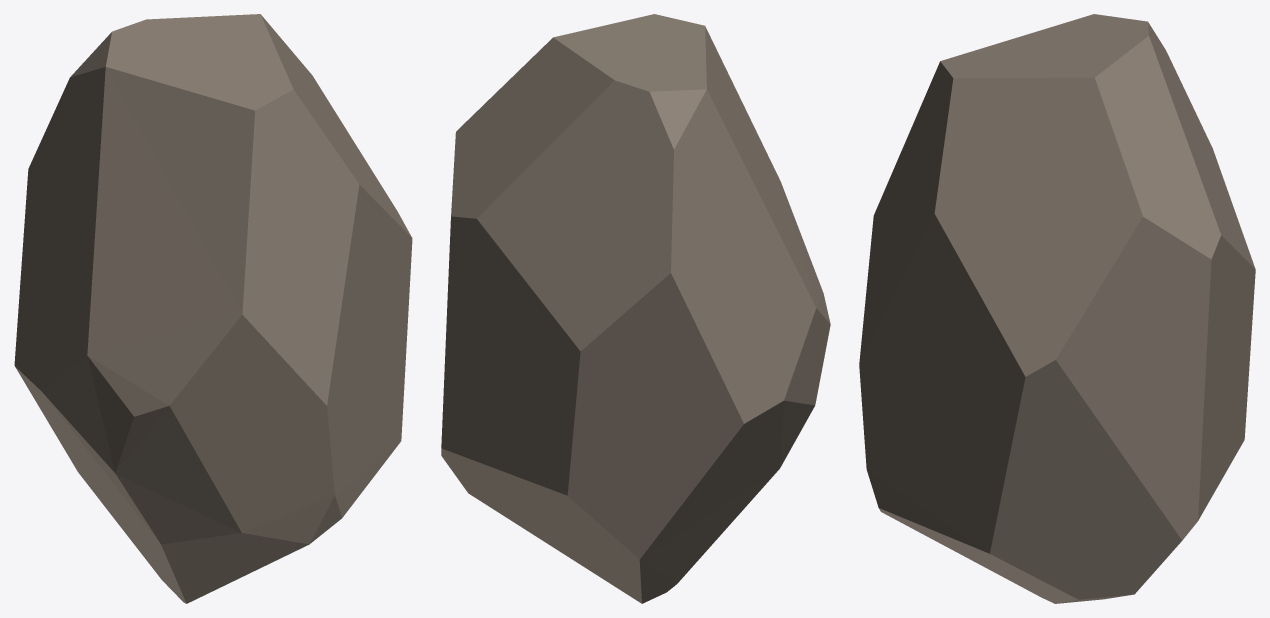
Rendered from stone11.dae.
The picture shows the model from 3 angles, left to right: view 1: azimuth 30°, elevation 25°; view 2: azimuth 150°, elevation 25°; view 3: azimuth 270°, elevation 25°; orthographic projection. The views are drawn at different scales.
Visible parts, largest first — view 1: Stone1.1; view 2: Stone1.1; view 3: Stone1.1.
Boxes of the visible parts, x1,y1,x2,y2 form: Stone1.1: (14, 14, 412, 603); Stone1.1: (441, 14, 830, 603); Stone1.1: (859, 14, 1255, 603).
Bounding box in the file's own units: 1.62 × 1.55 × 2.48.
Materials: 1 (1 with a texture image).
